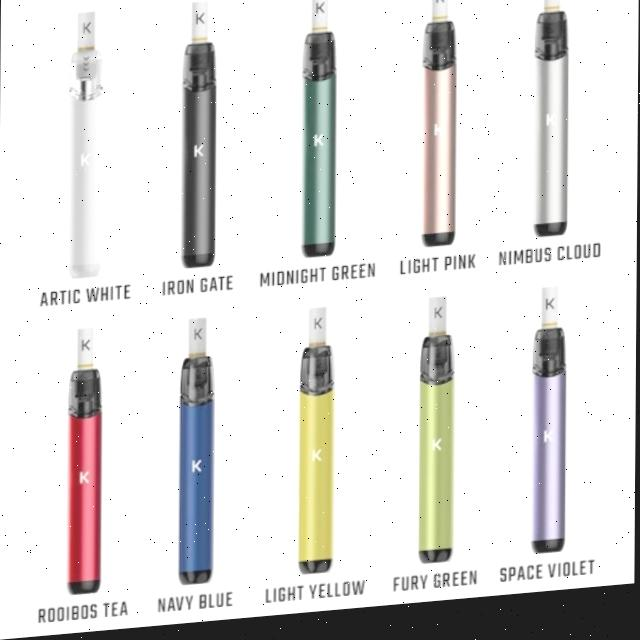vape: (181, 3, 219, 273), (66, 12, 104, 282), (66, 328, 104, 598), (179, 320, 217, 590), (301, 0, 339, 266), (421, 0, 459, 256), (420, 303, 456, 573), (532, 296, 568, 565), (533, 0, 571, 249), (300, 311, 335, 580)
